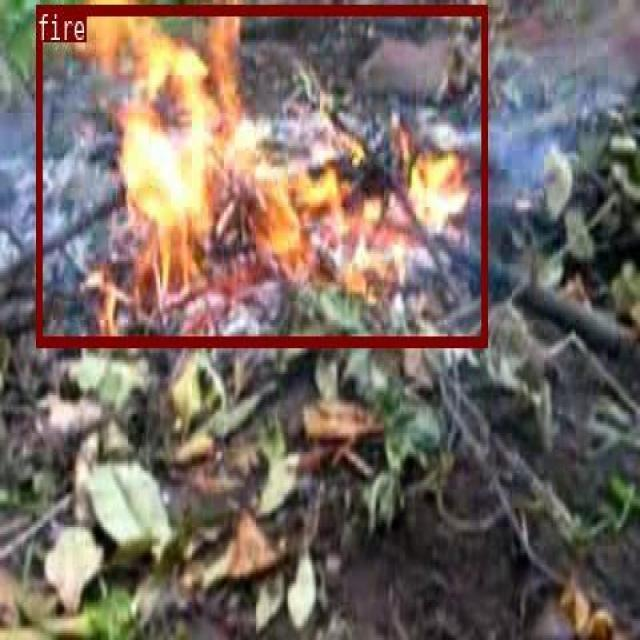fire: (36, 3, 486, 344)
